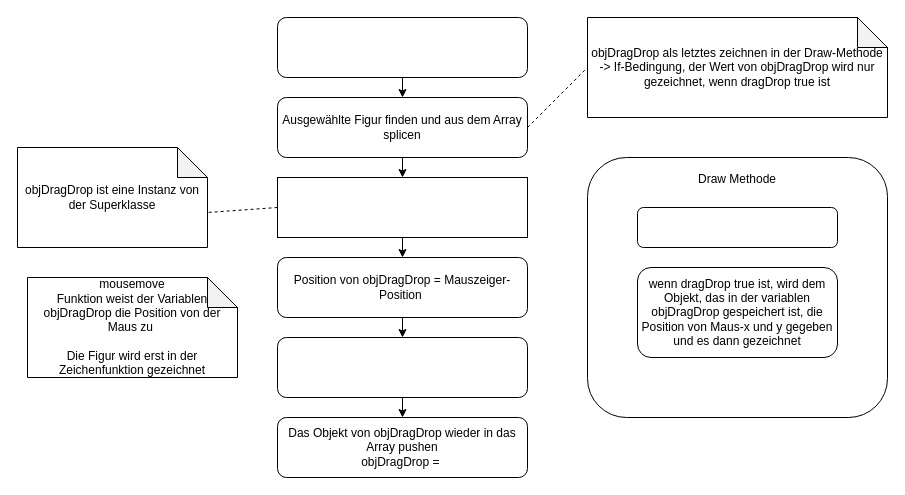
The diagram is 905 pixels wide and 495 high, and some of its shapes have lost their labels. The centre of each missing label's shape, as x and y in pixels:
"alle Objekte im Array bewegen und zeichnen wie gehabt" belongs at (x=737, y=227).
"Mousedown über einer Figur dragDrop = true" belongs at (x=402, y=47).
"Mouseup an einer anderen Stelle" belongs at (x=402, y=367).
"objDragDrop = Figur, über der der Mauszeiger ist" belongs at (x=402, y=207).
